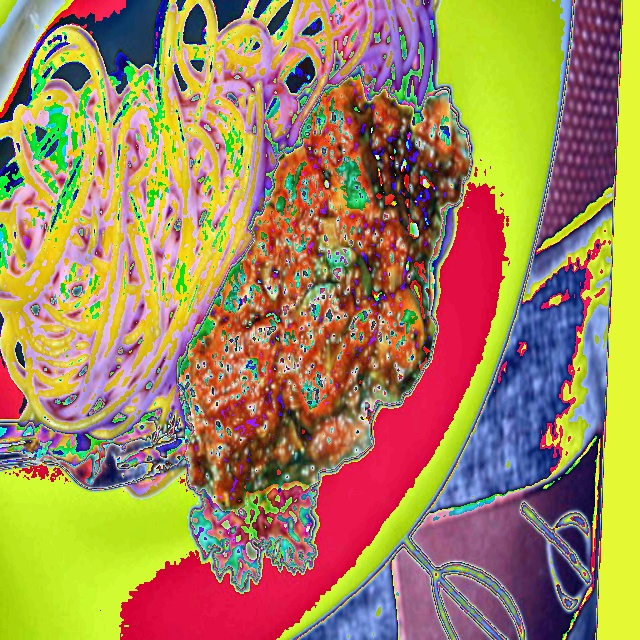background: (0, 0, 474, 595)
